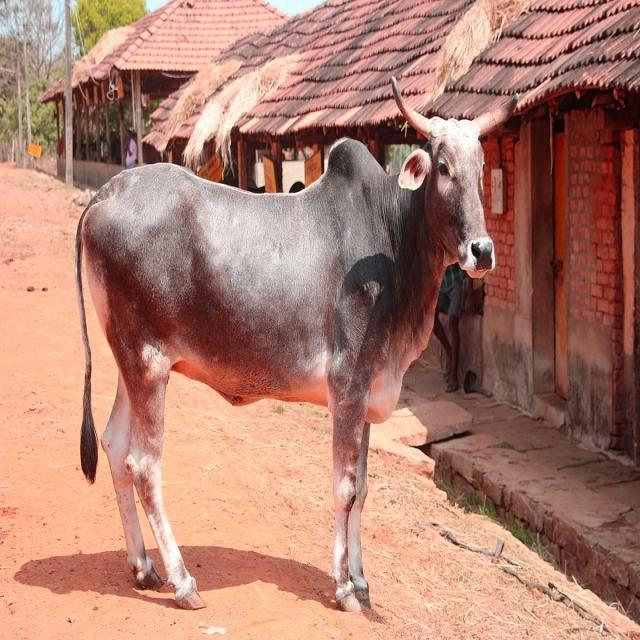cow: (76, 81, 515, 611)
